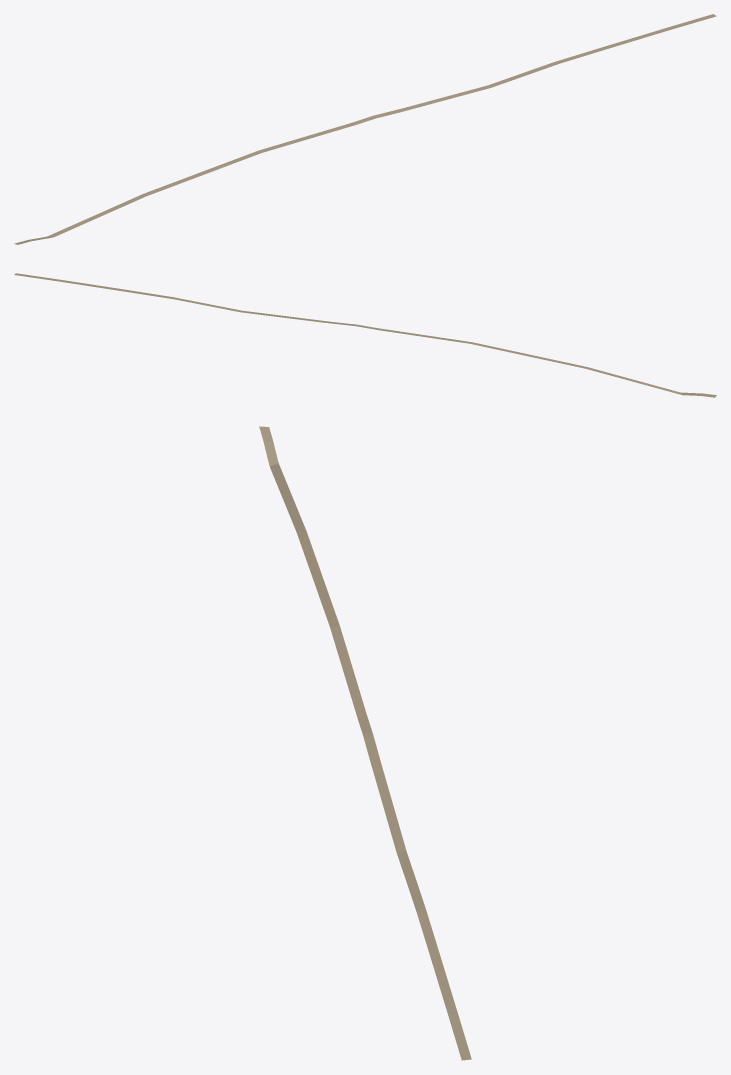
File: farm_-29_-28_track.glb
The picture shows the model from 3 angles, top to bottom: view 1: azimuth 30°, elevation 25°; view 2: azimuth 150°, elevation 25°; view 3: azimuth 270°, elevation 25°; orthographic projection. The views are drawn at different scales.
Parts seen in each view (by area): view 1: geometry_0; view 2: geometry_0; view 3: geometry_0.
Part boxes in pixels (<box>): geometry_0: <box>14,14,716,244</box>; geometry_0: <box>14,273,716,397</box>; geometry_0: <box>259,426,471,1060</box>.
Size of the model in its own units: 487 by 10.43 by 68.94.
